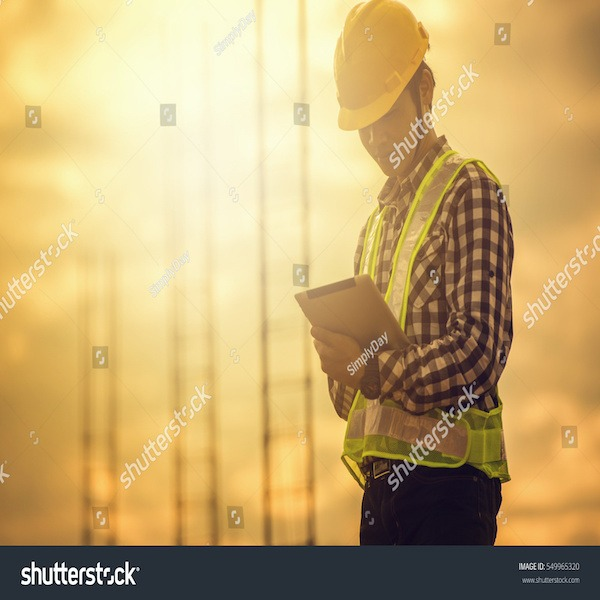helmet: (330, 4, 427, 127)
vest: (349, 183, 515, 481)
